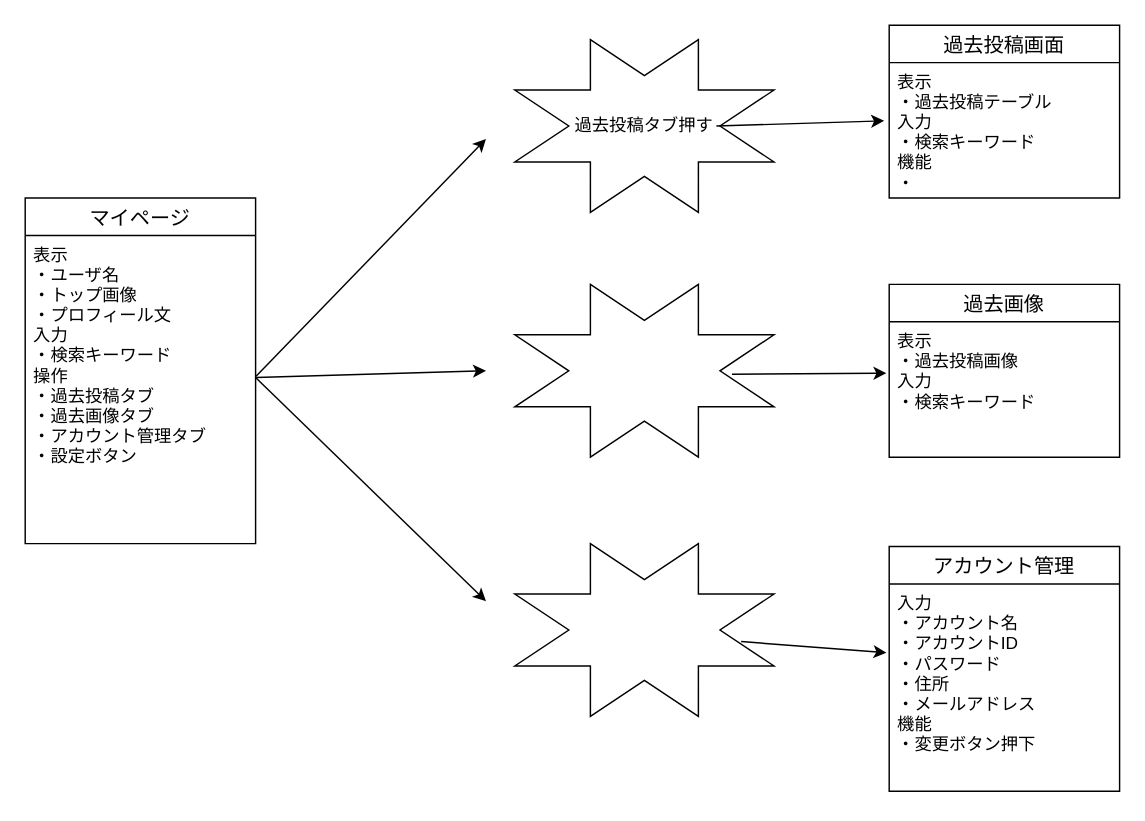
Some shapes in this 1145 by 821 pixel diagram are drawn without their labels. The centre of each missing label's shape, as x and y in pixels:
"アカウント管理タブ押す" goes at (643,629).
"過去画像タブ押す" goes at (643,370).
